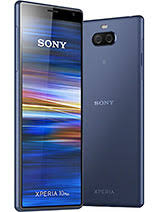sony: (11, 1, 83, 211), (80, 13, 146, 212)
